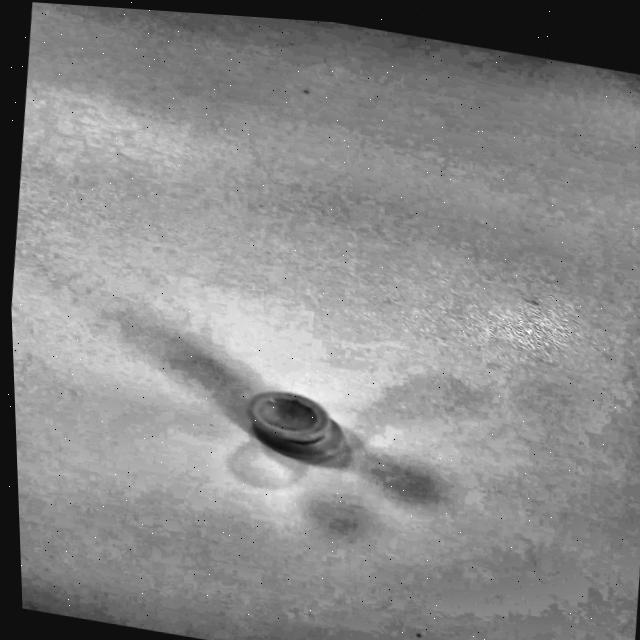white-rook: (237, 391, 347, 464)
